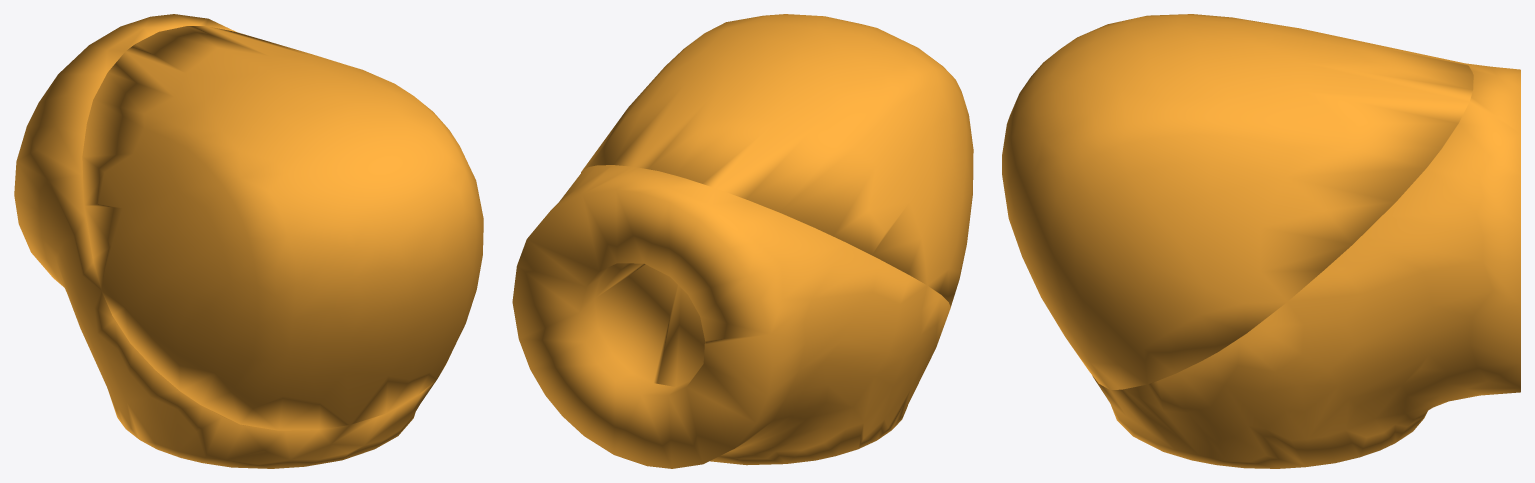
3 views of the same model, side by side, from view 1: azimuth 30°, elevation 25°; view 2: azimuth 150°, elevation 25°; view 3: azimuth 270°, elevation 25° (orthographic). The views are drawn at different scales.
Visible parts, largest first — view 1: Link_6; view 2: Link_6; view 3: Link_6.
Part boxes in pixels (<box>): Link_6: <box>14,14,483,468</box>; Link_6: <box>512,14,973,468</box>; Link_6: <box>1002,14,1520,468</box>.
Size of the model in its own units: 0.1323 by 0.1674 by 0.1377.
